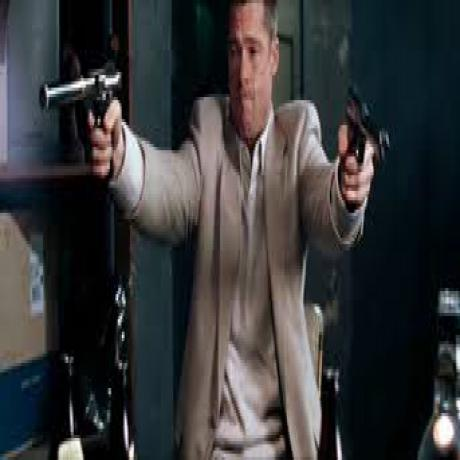Guns: (37, 52, 124, 172), (337, 74, 392, 182)
